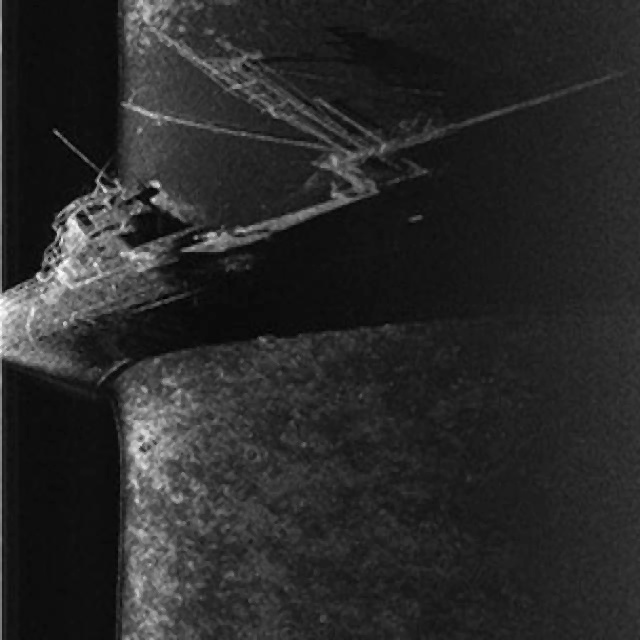Ship: (1, 19, 640, 407)
